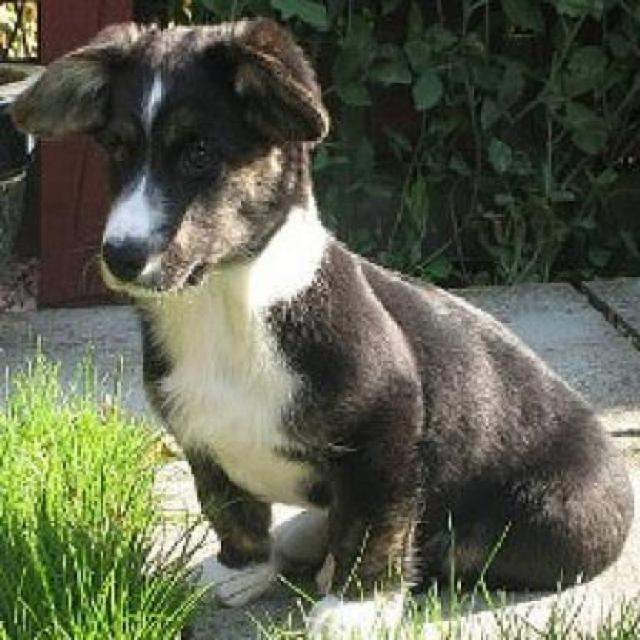Dog: (6, 11, 632, 638)
